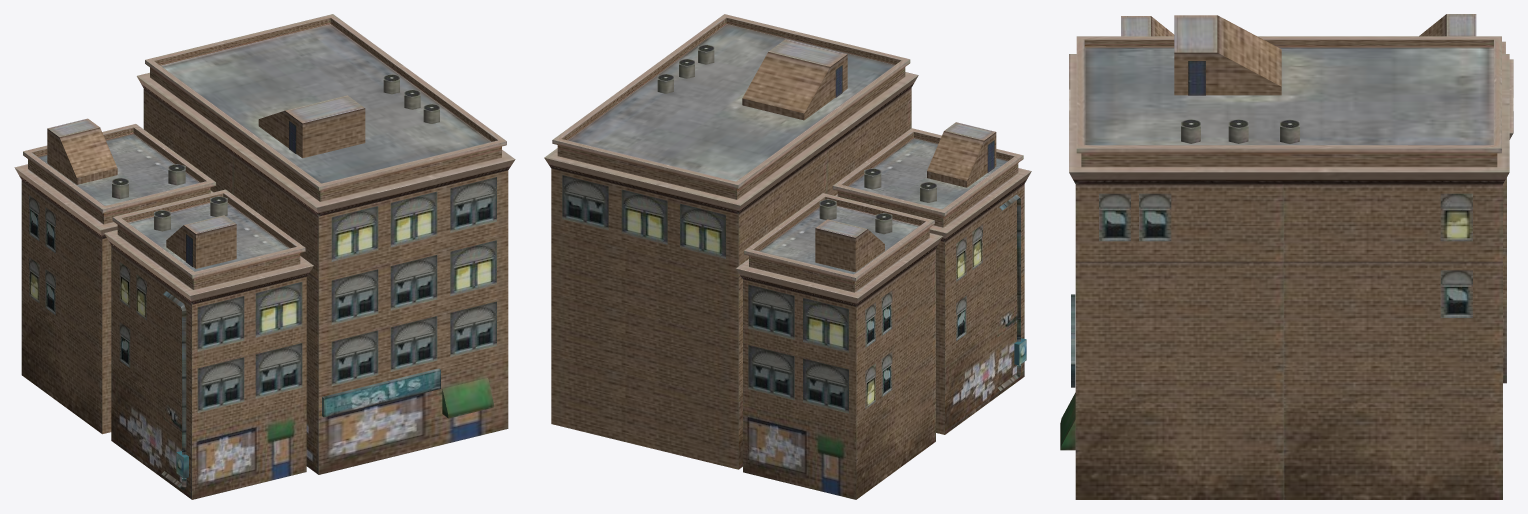
3 renders of one model, left to right at view 1: azimuth 30°, elevation 25°; view 2: azimuth 150°, elevation 25°; view 3: azimuth 270°, elevation 25°, orthographic. The views are drawn at different scales.
Visible parts, largest first — view 1: polySurface139 (×3), Filler_SalsT8_group8_pCube11, Filler_SalsWindows, pCube11 (×2), pCube12 (×2), pCube13 (×2), polySurface142 (×3), Filler_SalsGlow, polySurface140 (×3), polySurface128, polySurface34, polySurface129; view 2: polySurface139 (×3), Filler_SalsT8_group8_pCube11, pCube11 (×2), pCube12 (×2), pCube13 (×2), polySurface142 (×3), Filler_SalsWindows, Filler_SalsGlow, polySurface140 (×3), polySurface129; view 3: Filler_SalsT8_group8_pCube11, polySurface139, polySurface142 (×3), Filler_SalsWindows, polySurface140, Filler_SalsGlow, polySurface34, polySurface804.
Boxes of the visible parts, x1,y1,x2,y2 form: polySurface139 (×3): (14,14,515,304); Filler_SalsT8_group8_pCube11: (143,89,508,474); Filler_SalsWindows: (29,177,496,412); pCube11 (×2): (21,307,306,499); pCube12 (×2): (21,243,306,431); pCube13 (×2): (21,180,306,367); polySurface142 (×3): (47,95,365,268); Filler_SalsGlow: (29,191,496,337); polySurface140 (×3): (15,72,515,295); polySurface128: (322,368,440,417); polySurface34: (442,378,494,418); polySurface129: (161,291,186,490); polySurface139 (×3): (544,14,1031,306); Filler_SalsT8_group8_pCube11: (551,88,911,469); pCube11 (×2): (743,309,1024,499); pCube12 (×2): (743,246,1024,431); pCube13 (×2): (743,184,1024,369); polySurface142 (×3): (742,39,996,272); Filler_SalsWindows: (562,175,966,413); Filler_SalsGlow: (621,189,982,409); polySurface140 (×3): (544,72,1031,298); polySurface129: (997,194,1020,391); Filler_SalsT8_group8_pCube11: (1075,184,1502,499); polySurface139: (1069,36,1509,184); polySurface142 (×3): (1121,14,1476,95); Filler_SalsWindows: (1099,193,1472,317); polySurface140: (1069,54,1509,172); Filler_SalsGlow: (1440,193,1472,241); polySurface34: (1060,392,1075,450); polySurface804: (1188,61,1205,95).
Size of the model in its own units: 1852 by 1749 by 1860.
Materials: 2 (2 with a texture image).
